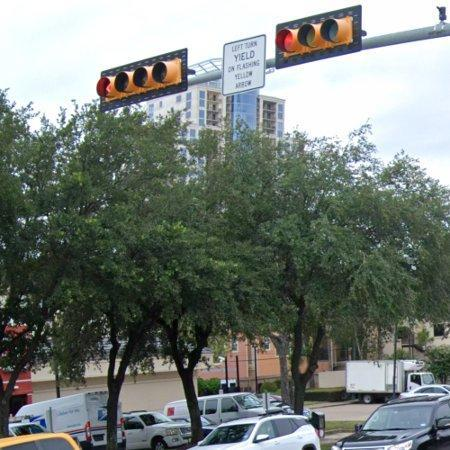traffic lights: (275, 6, 362, 70)
